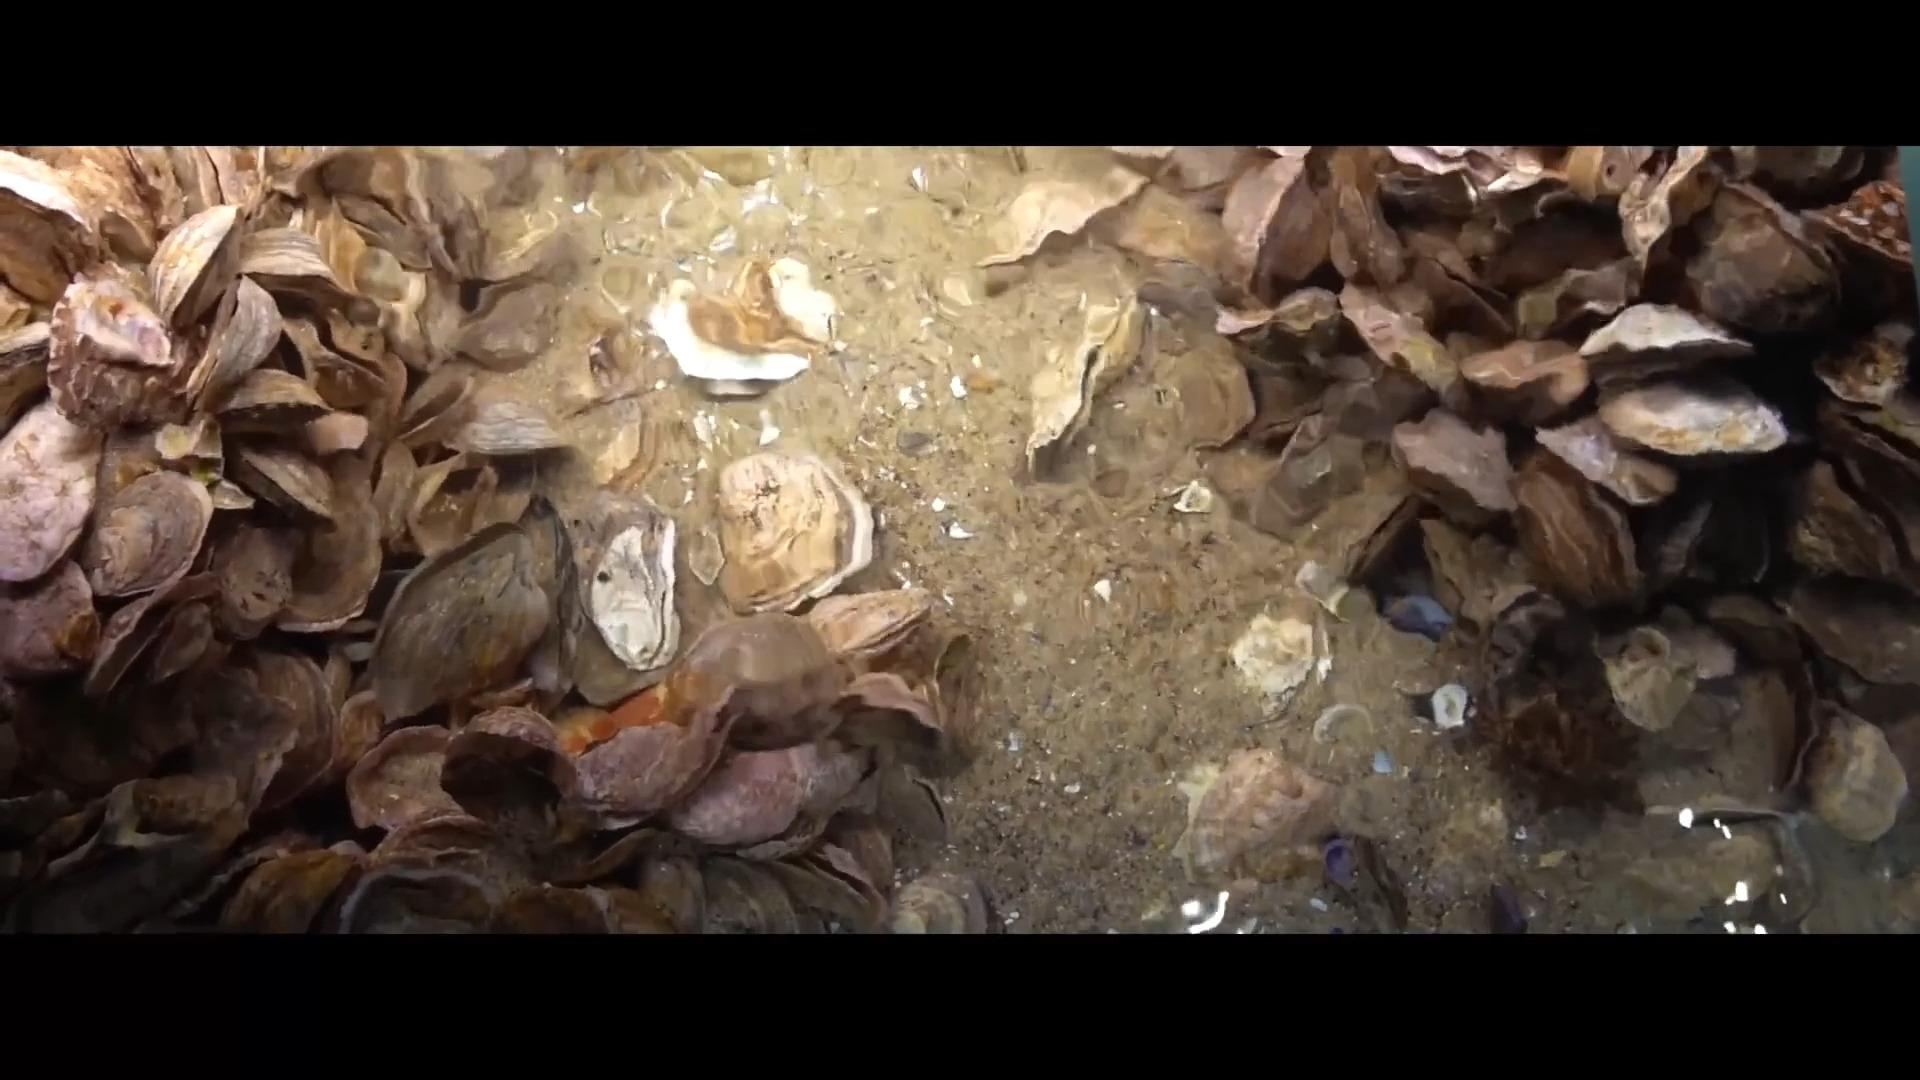Oyster: (364, 516, 559, 724), (1633, 647, 1799, 815), (1671, 181, 1838, 336), (21, 818, 239, 934), (716, 454, 874, 611), (667, 611, 841, 750), (658, 256, 835, 388), (1605, 812, 1809, 926), (42, 268, 181, 434), (1176, 746, 1344, 884), (667, 732, 853, 852), (1506, 451, 1646, 608), (559, 709, 729, 831), (261, 464, 385, 630), (401, 427, 553, 562), (1783, 442, 1915, 592), (1025, 297, 1138, 468), (1129, 328, 1258, 477), (232, 645, 345, 811), (0, 400, 102, 582), (1592, 373, 1796, 462), (435, 704, 576, 832), (963, 173, 1126, 270), (1783, 578, 1920, 694), (88, 471, 214, 596), (343, 723, 475, 841), (174, 273, 281, 419), (1383, 409, 1516, 524), (1801, 709, 1913, 845), (1415, 509, 1528, 636), (1108, 179, 1242, 285), (1571, 298, 1758, 373), (146, 200, 248, 339), (588, 520, 679, 670), (1617, 146, 1722, 276), (1808, 177, 1916, 298), (223, 844, 363, 936), (1, 551, 102, 679), (1337, 285, 1457, 392), (903, 632, 993, 774), (332, 862, 510, 934), (1215, 150, 1305, 287), (1531, 415, 1664, 504), (828, 670, 953, 764), (446, 273, 566, 371), (429, 384, 578, 460), (1456, 335, 1593, 418), (1598, 625, 1700, 736), (107, 767, 255, 843), (587, 389, 680, 504), (804, 588, 939, 667), (210, 517, 299, 636), (0, 146, 96, 256), (1811, 319, 1915, 413), (1226, 611, 1323, 707), (886, 866, 992, 934), (578, 322, 655, 411), (1234, 285, 1342, 348), (1089, 295, 1146, 382), (1552, 145, 1634, 204), (1295, 559, 1357, 620), (682, 521, 725, 589), (1313, 703, 1375, 749)
